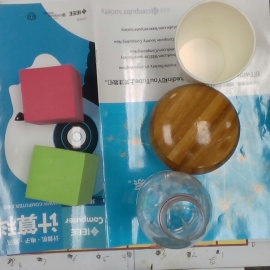bottle: (130, 170, 212, 245)
chess: (151, 86, 240, 174)
cup: (176, 2, 254, 83)
